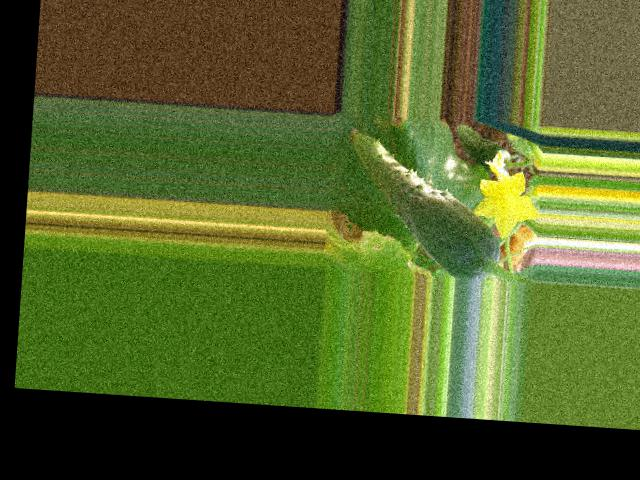cucumber: (341, 127, 508, 281)
